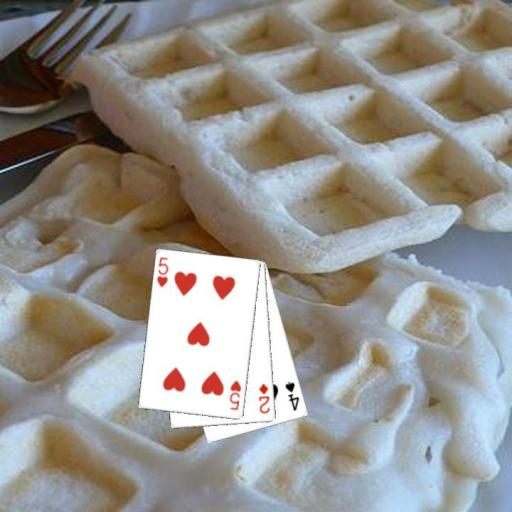2D: (256, 381, 272, 416)
4S: (282, 379, 301, 412)
5H: (154, 255, 170, 289), (227, 378, 242, 412)
